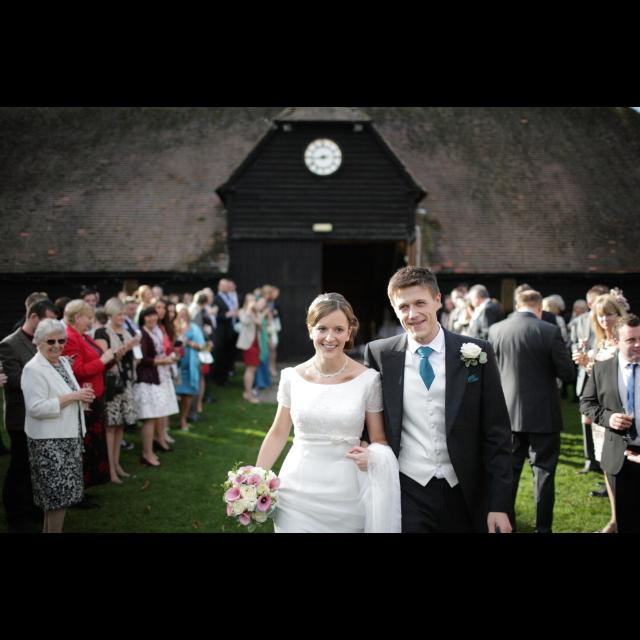Flower: (218, 468, 284, 526), (460, 341, 480, 365)
